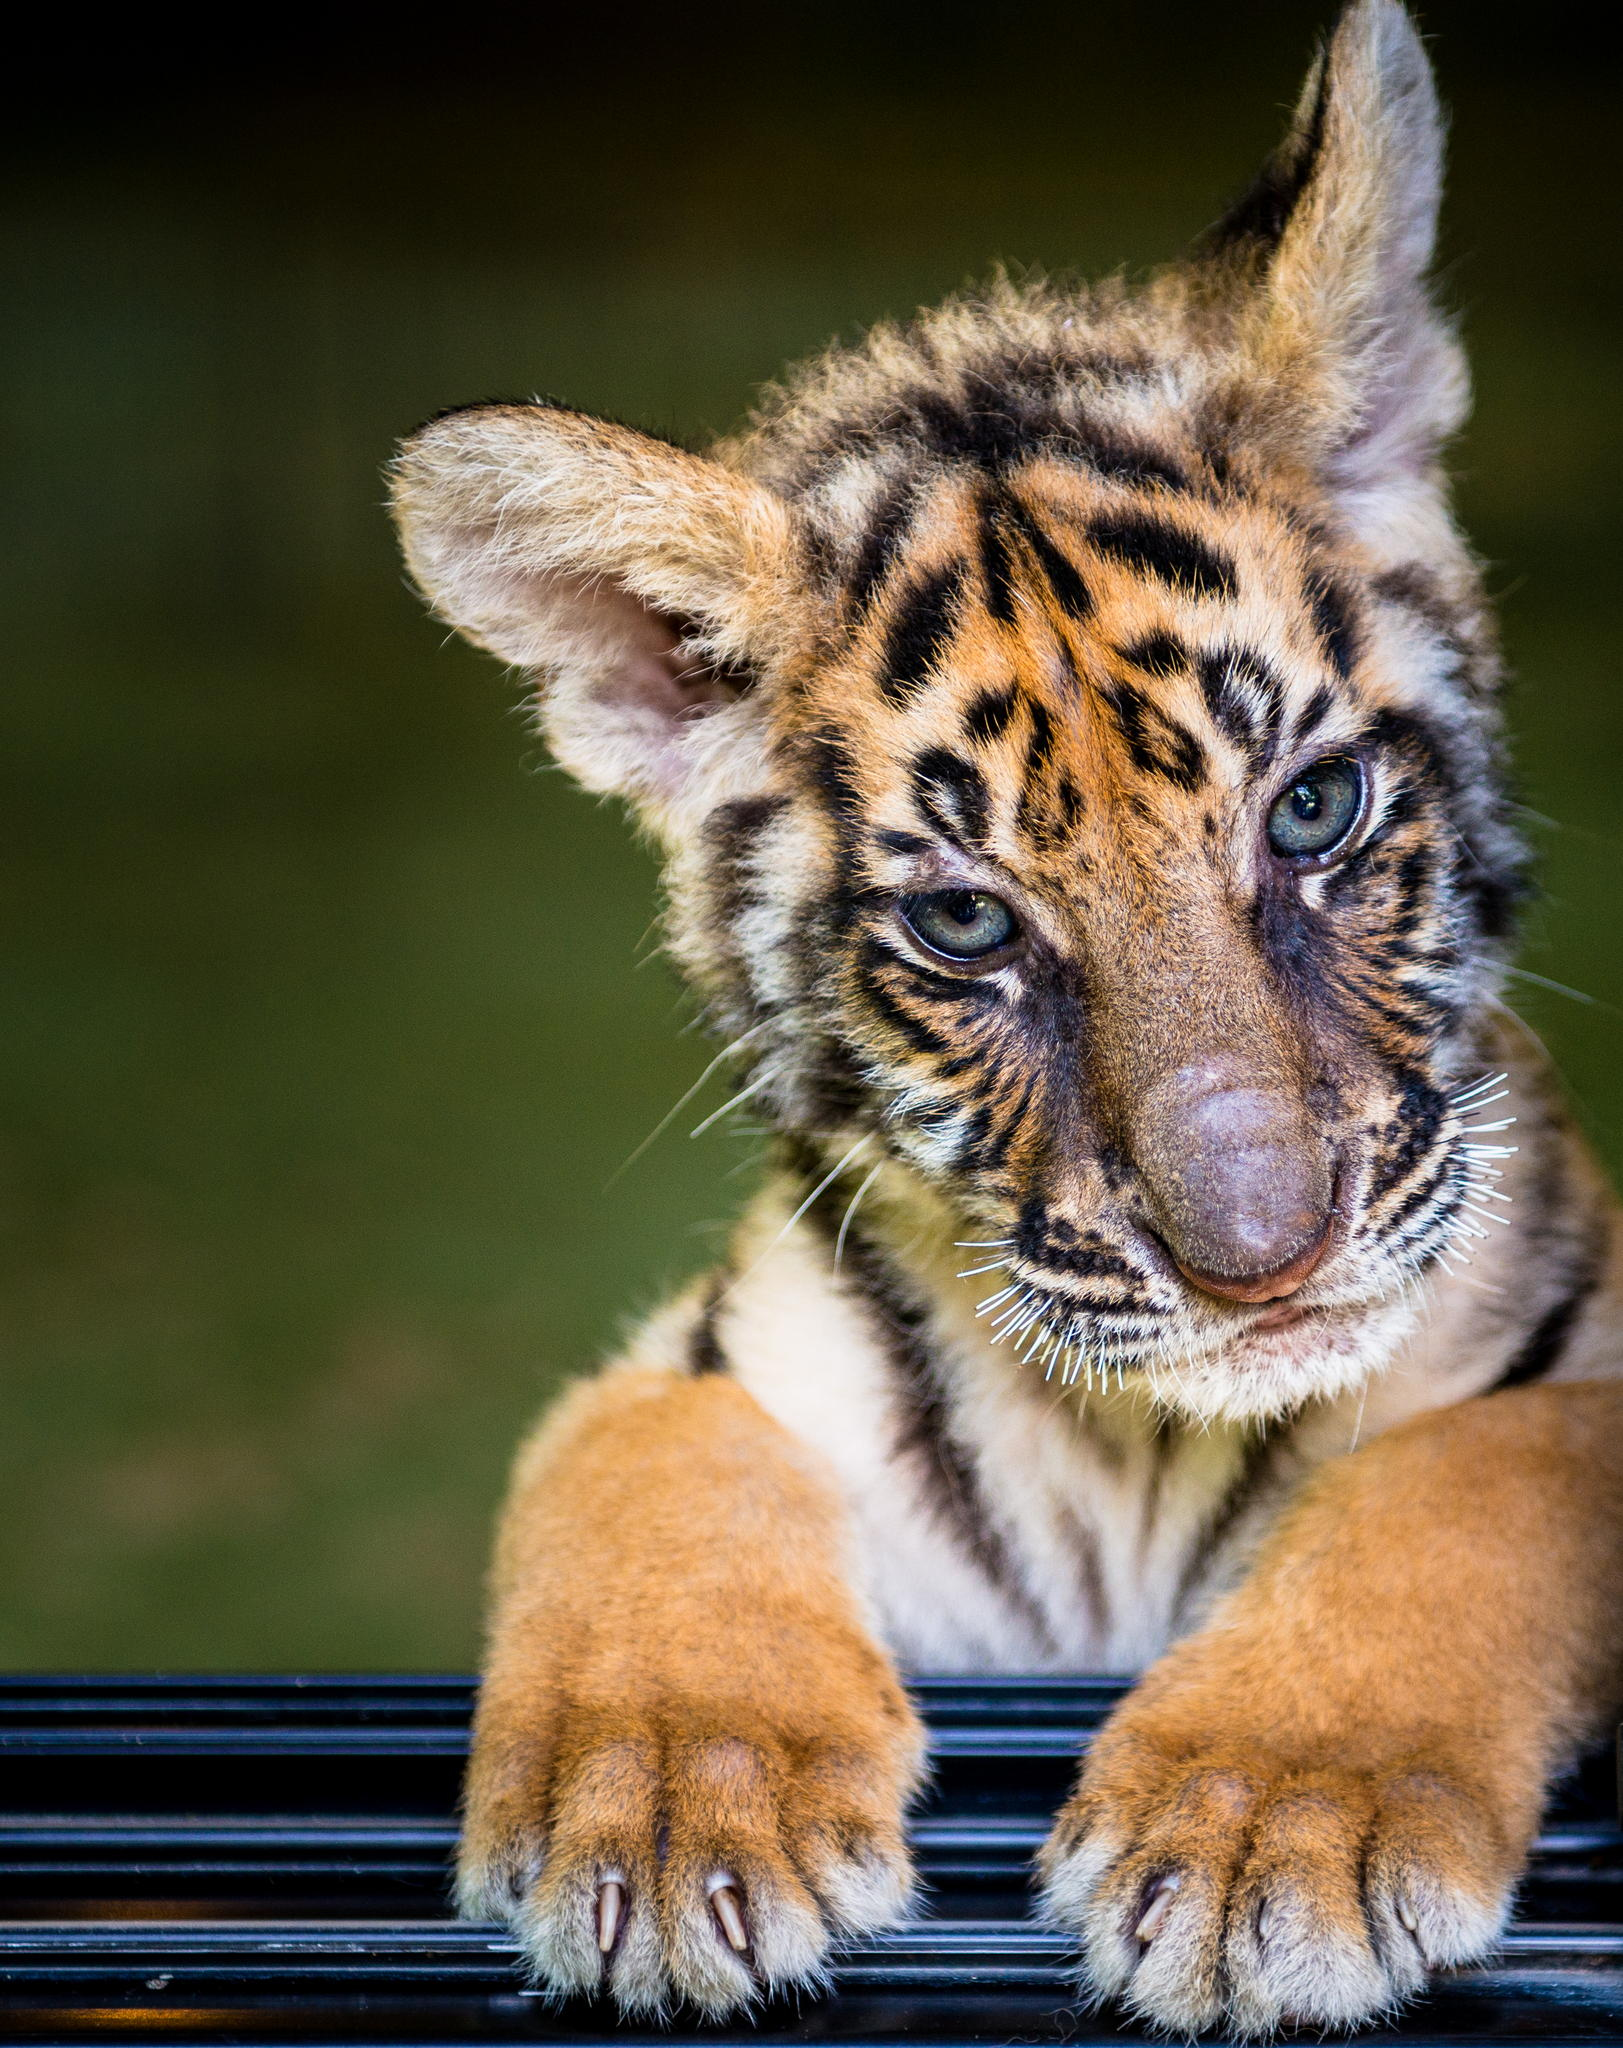tiger: (417, 96, 1576, 1993)
